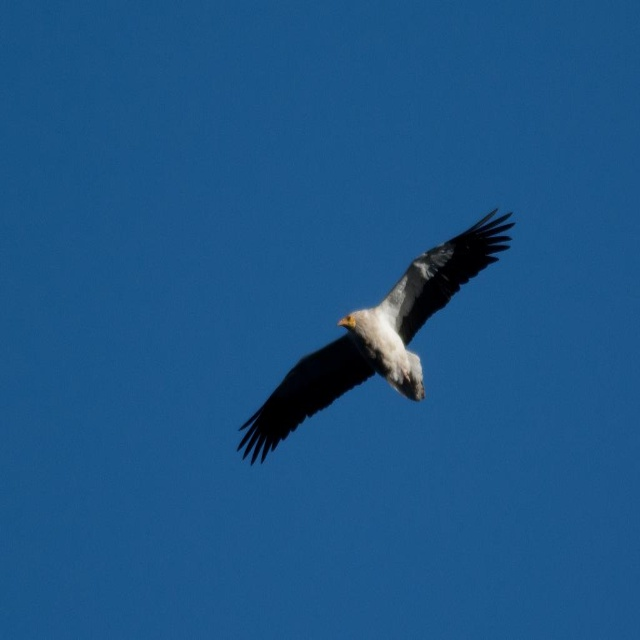Eagle: (236, 205, 516, 467)
